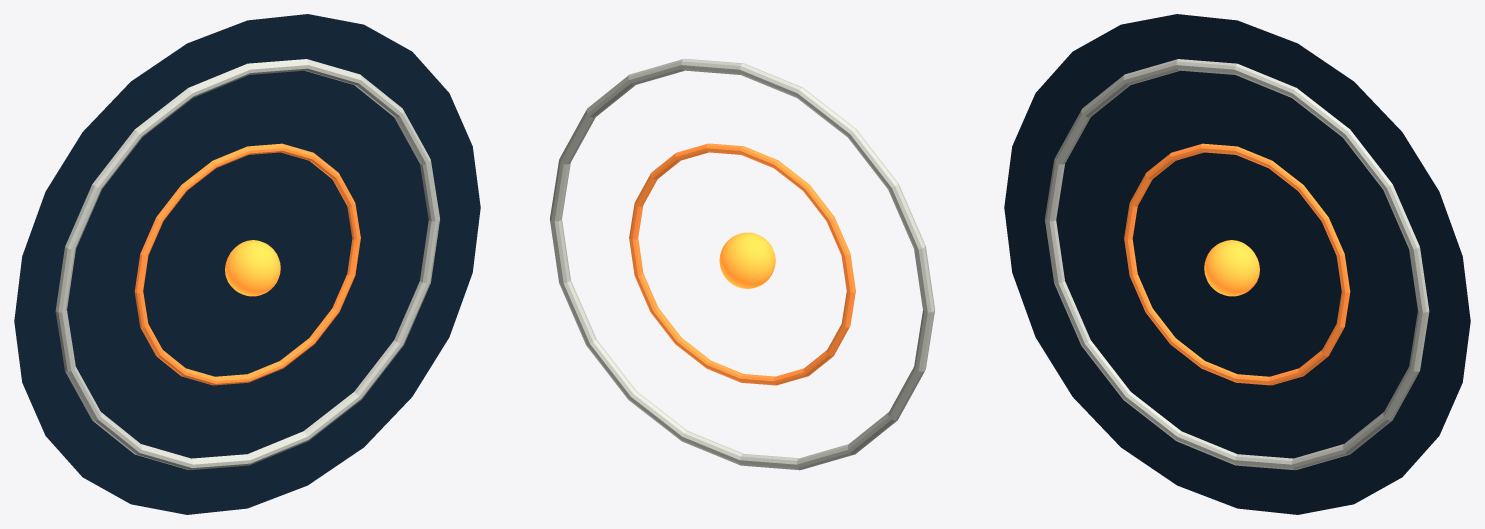
Rendered from hazard-door.glb.
3 views of the same model, side by side, from view 1: azimuth 30°, elevation 25°; view 2: azimuth 150°, elevation 25°; view 3: azimuth 330°, elevation 25° (orthographic).
Visible parts, largest first — view 1: dark_static, porcelain_static, trim_static, door_eye; view 2: porcelain_static, trim_static, door_eye; view 3: dark_static, porcelain_static, trim_static, door_eye.
Part boxes in pixels (x1,y1,x2,y2): dark_static: (14,14,480,514); porcelain_static: (55,59,440,470); trim_static: (134,143,360,385); door_eye: (225,240,280,296); porcelain_static: (549,58,935,470); trim_static: (629,143,855,385); door_eye: (719,232,775,288); dark_static: (1004,14,1470,514); porcelain_static: (1044,59,1429,470); trim_static: (1124,143,1350,385); door_eye: (1204,240,1259,296).
Bounding box in the file's own units: 4200 × 4200 × 440.
